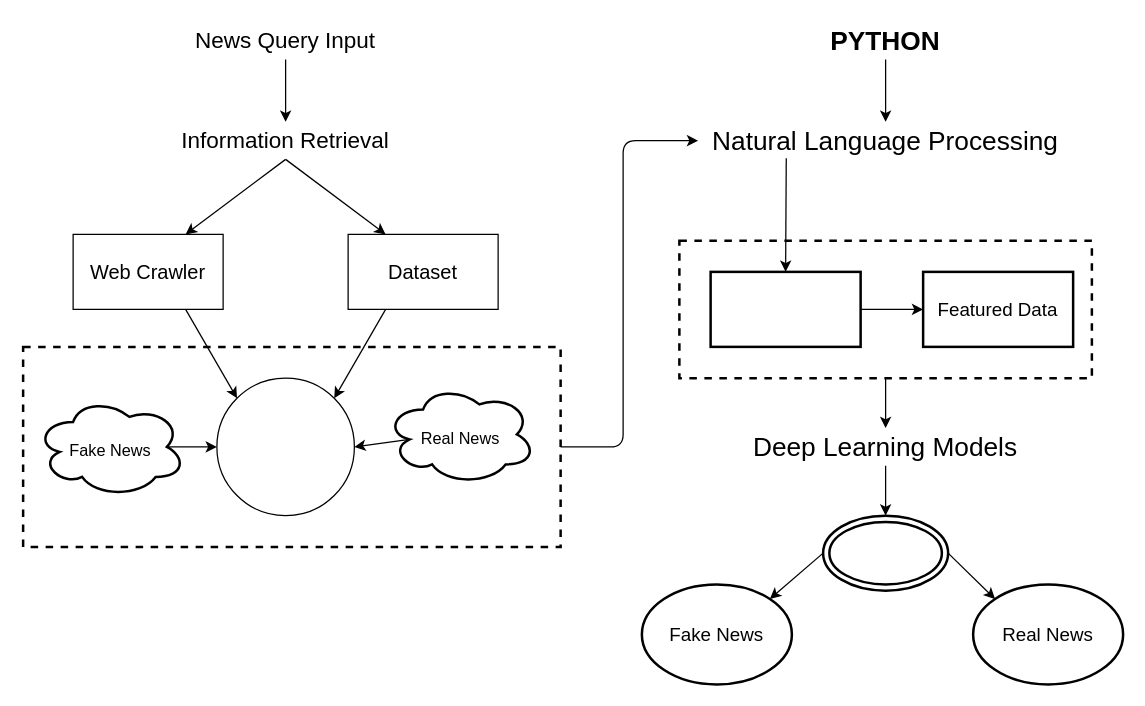
The diagram is 1145 pixels wide and 706 high, and some of its shapes have lost their labels. The shapes that lost their labels are listed below. From the top down, each one's centre as x and y in pixels, then its label:
pixel 785 309: Segment and Cleansing
pixel 285 446: Information Cloud
pixel 885 552: Output
